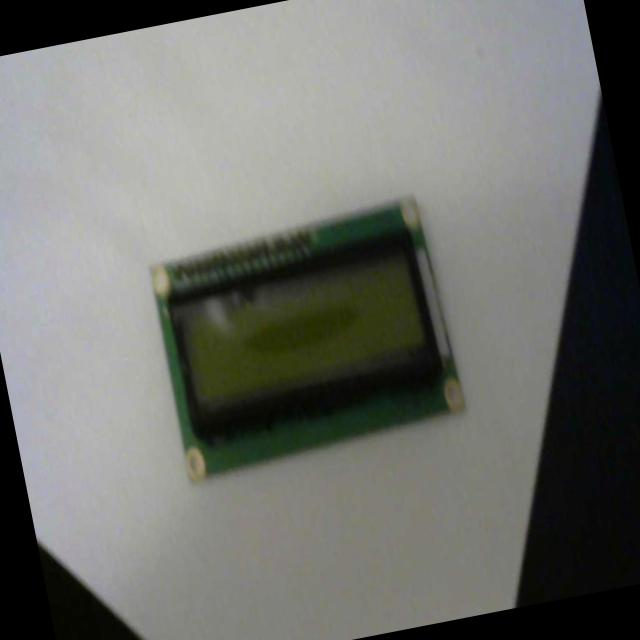lcd: (142, 191, 471, 484)
